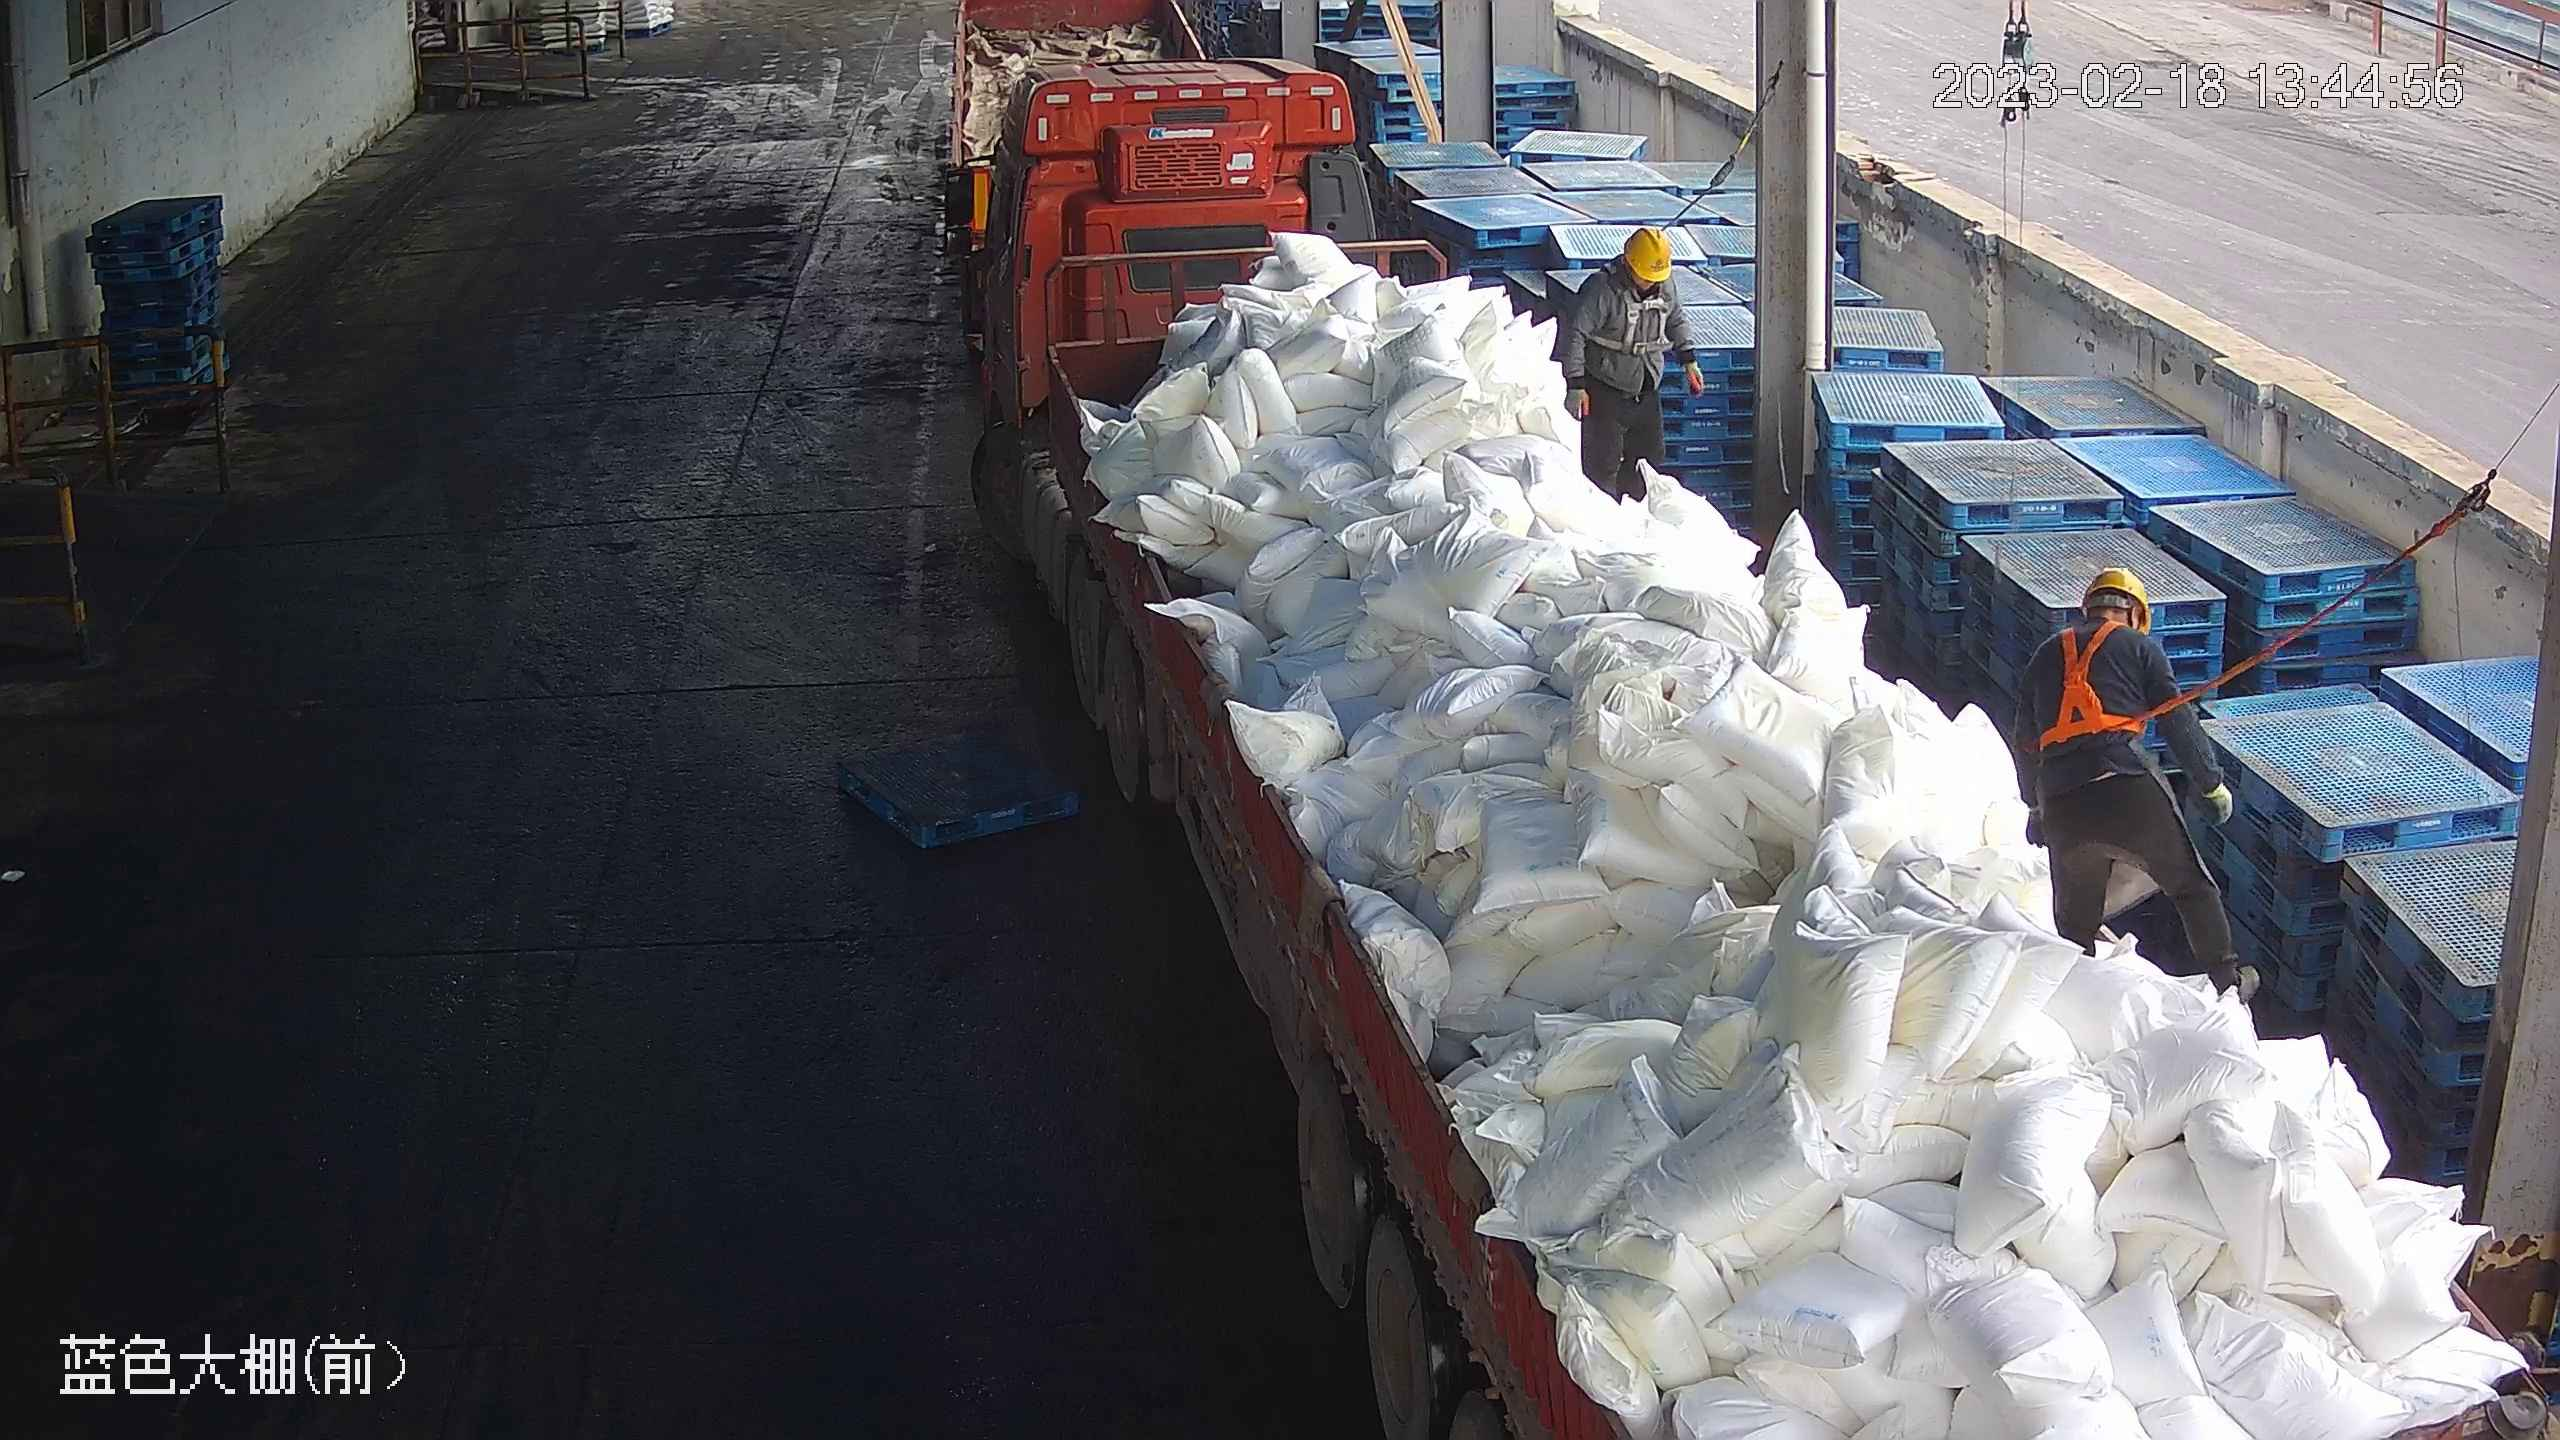belt: (2032, 615, 2152, 750), (1594, 265, 1677, 358)
head: (2023, 565, 2180, 696), (1577, 222, 1682, 315)
helmet: (2080, 563, 2156, 629), (1620, 221, 1676, 285)
people: (2004, 561, 2253, 1011), (1560, 224, 1706, 512)
truck: (948, 51, 2556, 1438)
